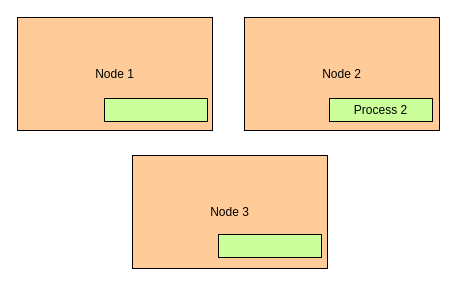
Some shapes in this 457 by 286 pixel diagram are drawn without their labels. The centre of each missing label's shape, as x and y in pixels:
"Process 1" goes at (156,110).
"Process 3" goes at (270,246).
